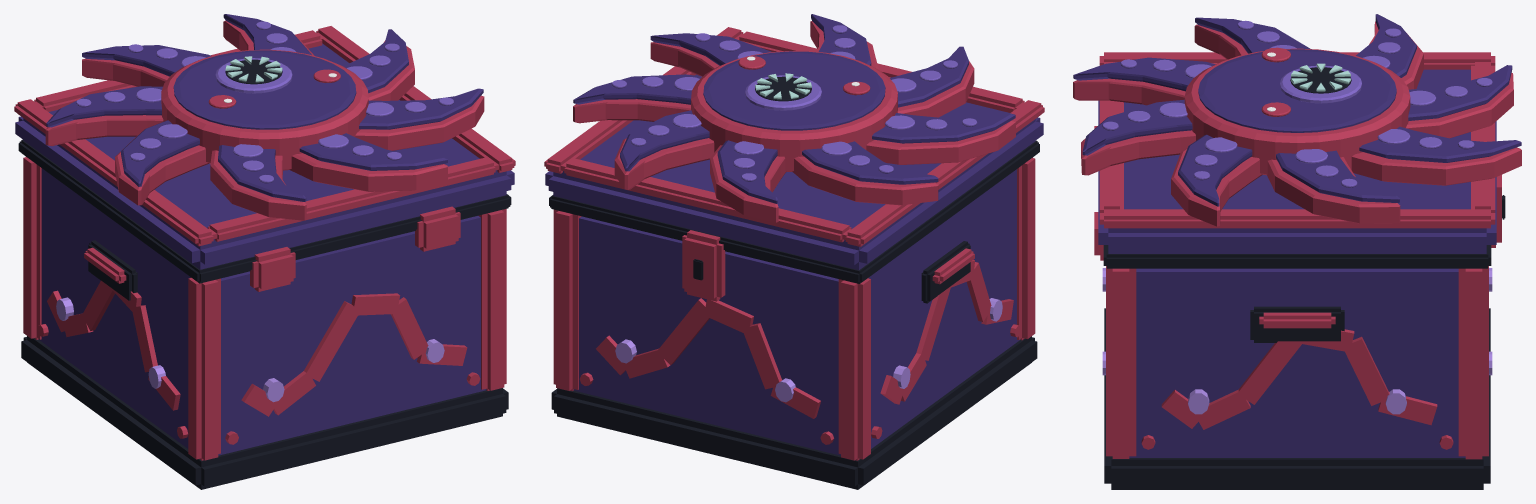
The model's file is crate_kraken.fbx.
3 renders of one model, left to right at view 1: azimuth 30°, elevation 25°; view 2: azimuth 150°, elevation 25°; view 3: azimuth 270°, elevation 25°, orthographic. The views are drawn at different scales.
Visible parts, largest first — view 1: crate_kraken_caixa; view 2: crate_kraken_caixa; view 3: crate_kraken_caixa.
Boxes of the visible parts, x1,y1,x2,y2 form: crate_kraken_caixa: [14, 14, 515, 489]; crate_kraken_caixa: [544, 14, 1044, 489]; crate_kraken_caixa: [1073, 14, 1521, 489].
Size of the model in its own units: 2.95 by 2.43 by 2.95.
Materials: 1 (1 with a texture image).
